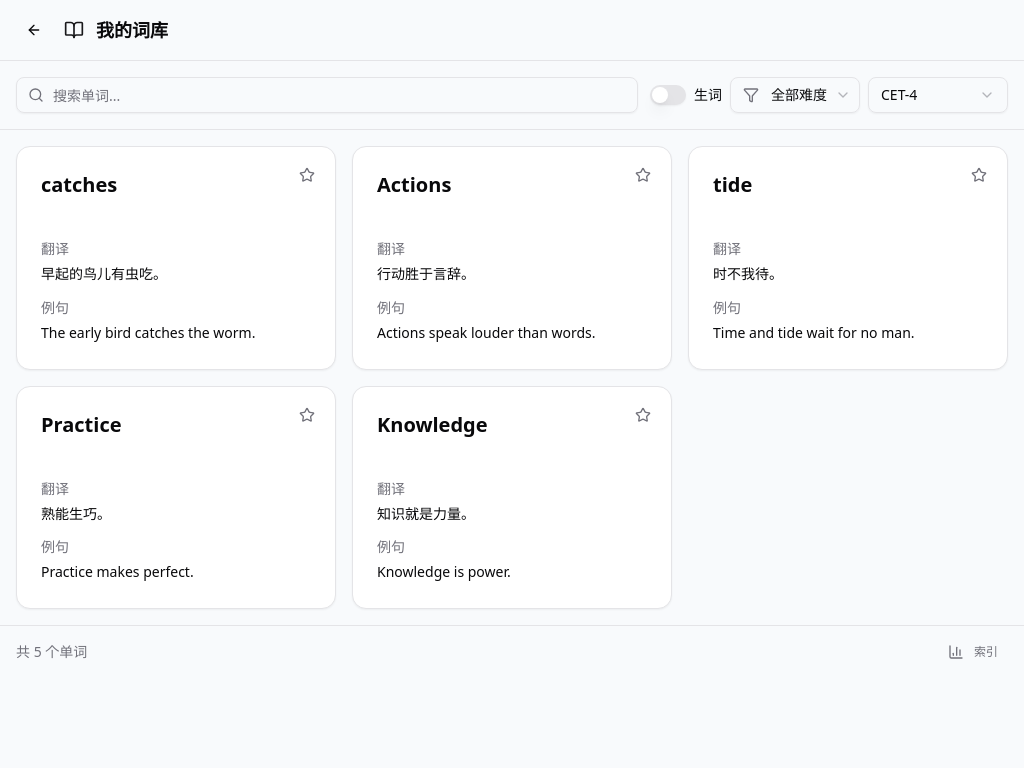
Test: DictionaryBrowser › Level filter › filters by junior level
Expected: the text "Practice" is shown, [41,410,122,438]
Note: Open level filter dropdown
Click the dropdown labelled "全部难度".
click(795, 95)  # box [730,77,860,113]
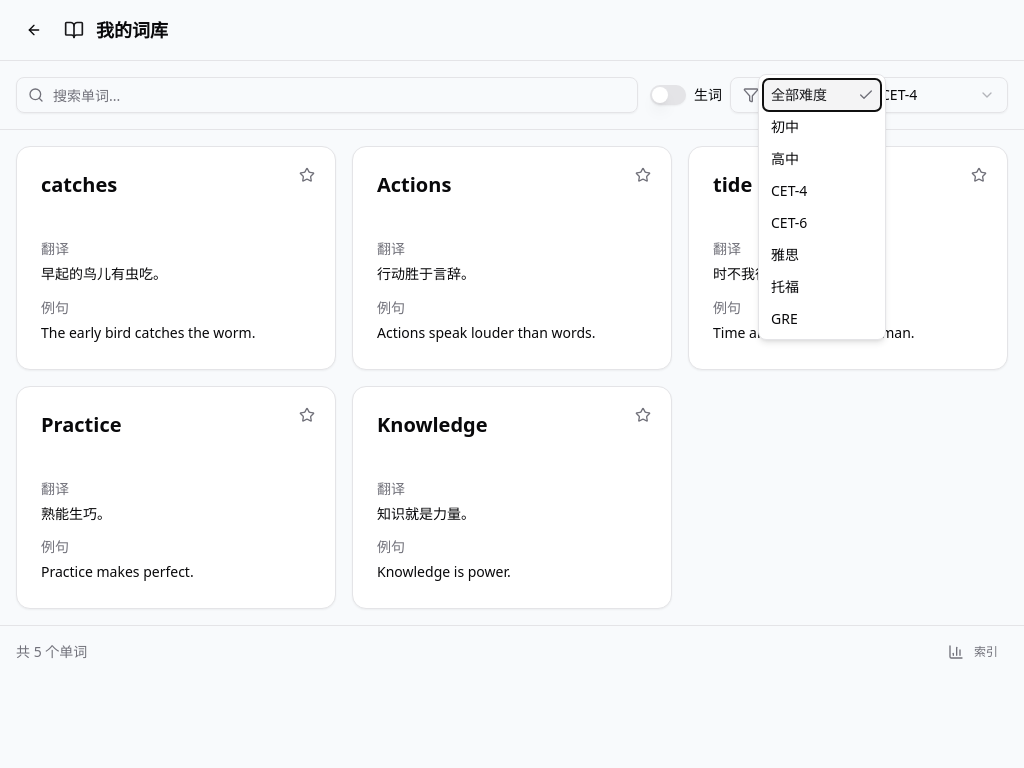
Expected: the option "初中" is shown
Note: Click 初中 option
Click the option "初中".
click(785, 126)  # box [771,117,799,136]
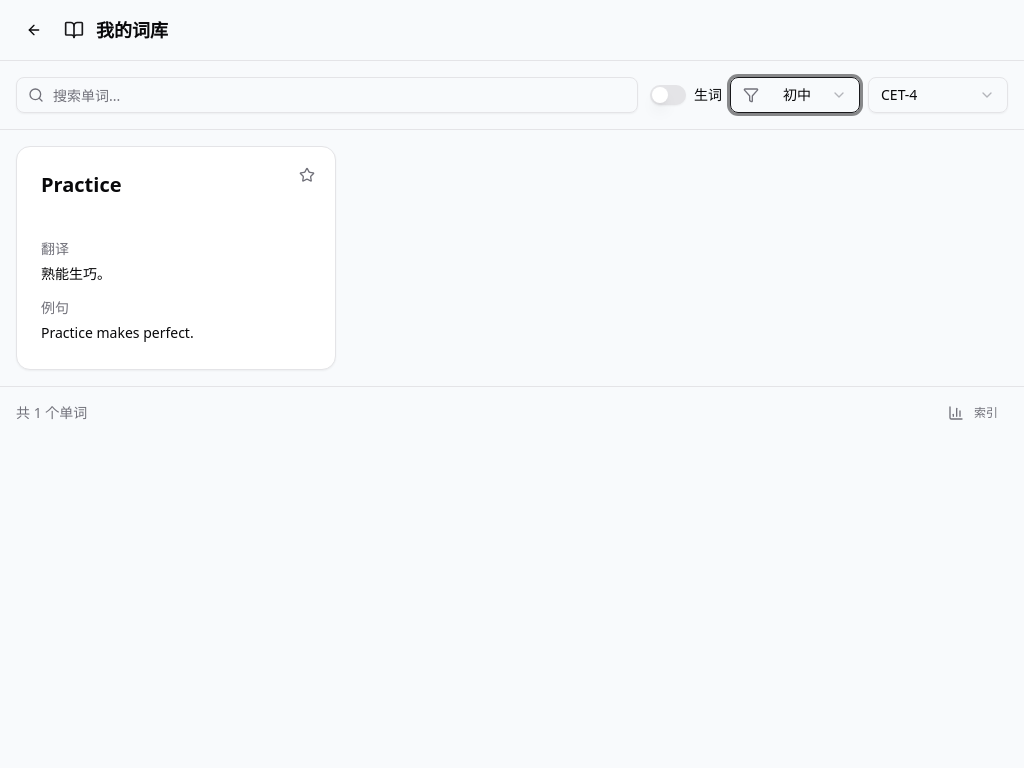
Expected: the text "catches" is gone
Expected: the text "tide" is gone
Expected: the text "共 1 个单词" is shown, [16,402,87,422]
